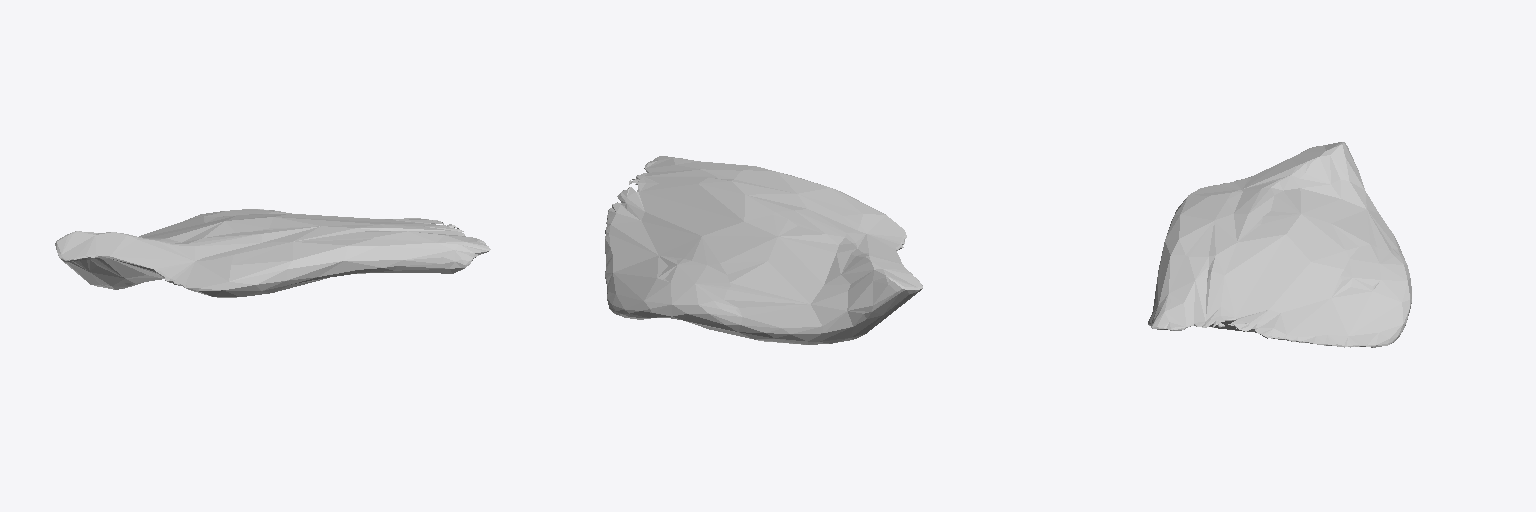
Rendered from left quadratus femoris.obj.
3 renders of one model, left to right at view 1: azimuth 30°, elevation 25°; view 2: azimuth 150°, elevation 25°; view 3: azimuth 270°, elevation 25°, orthographic.
Visible parts, largest first — view 1: grp1; view 2: grp1; view 3: grp1.
Part boxes in pixels (x1,y1,x2,y2): grp1: (55, 209, 490, 297); grp1: (605, 156, 922, 344); grp1: (1148, 142, 1411, 347).
Bounding box in the file's own units: 70.62 × 15.23 × 46.2.